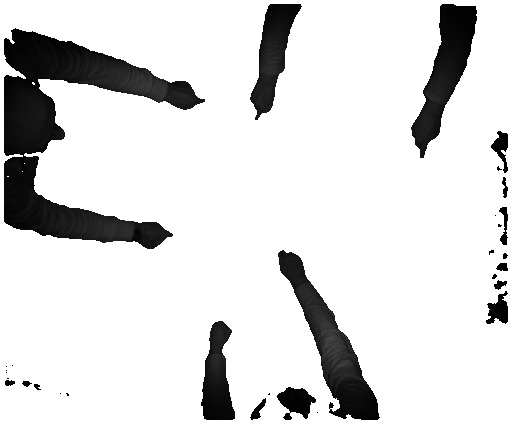fist: (272, 248, 309, 283), (208, 320, 231, 349)
hand: (408, 117, 447, 159), (138, 216, 175, 255), (248, 81, 279, 119), (172, 80, 207, 111)
